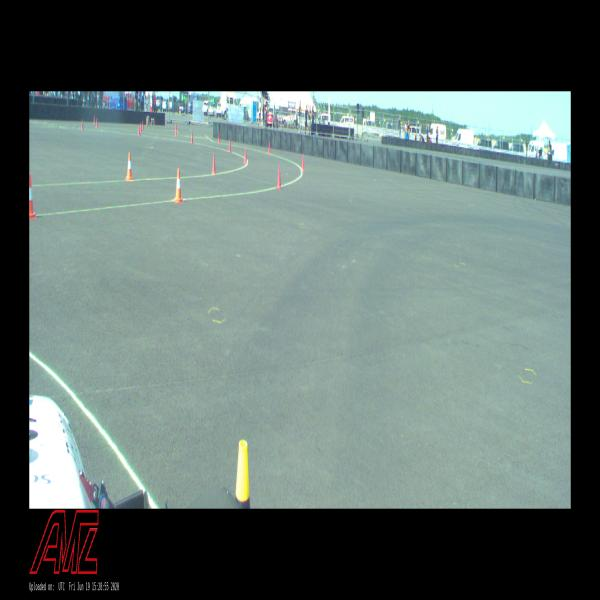orange_cone: (174, 168, 183, 202), (30, 174, 36, 219), (125, 153, 133, 180)
unknown_cone: (276, 167, 282, 188), (212, 154, 216, 173), (244, 148, 247, 164), (190, 132, 194, 143), (228, 139, 231, 152), (302, 154, 304, 171), (268, 142, 271, 153), (95, 119, 98, 127), (175, 123, 177, 134), (82, 120, 84, 130), (218, 133, 220, 143), (175, 126, 177, 136), (138, 125, 140, 135), (140, 122, 142, 132), (142, 121, 144, 130), (93, 116, 95, 125)
